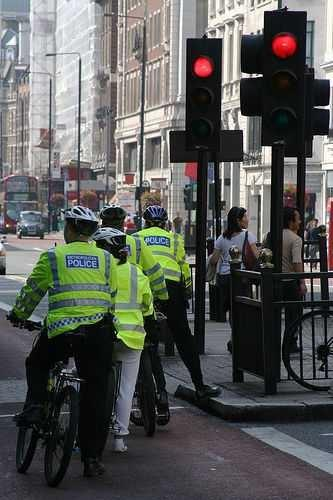red: (266, 14, 304, 139), (184, 39, 219, 155), (265, 23, 302, 61), (186, 43, 219, 81)
